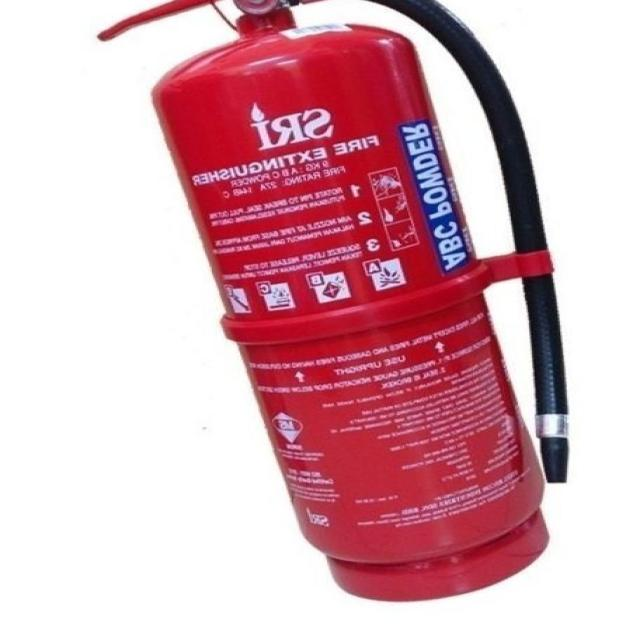fire_extinguisher: (87, 0, 588, 605)
